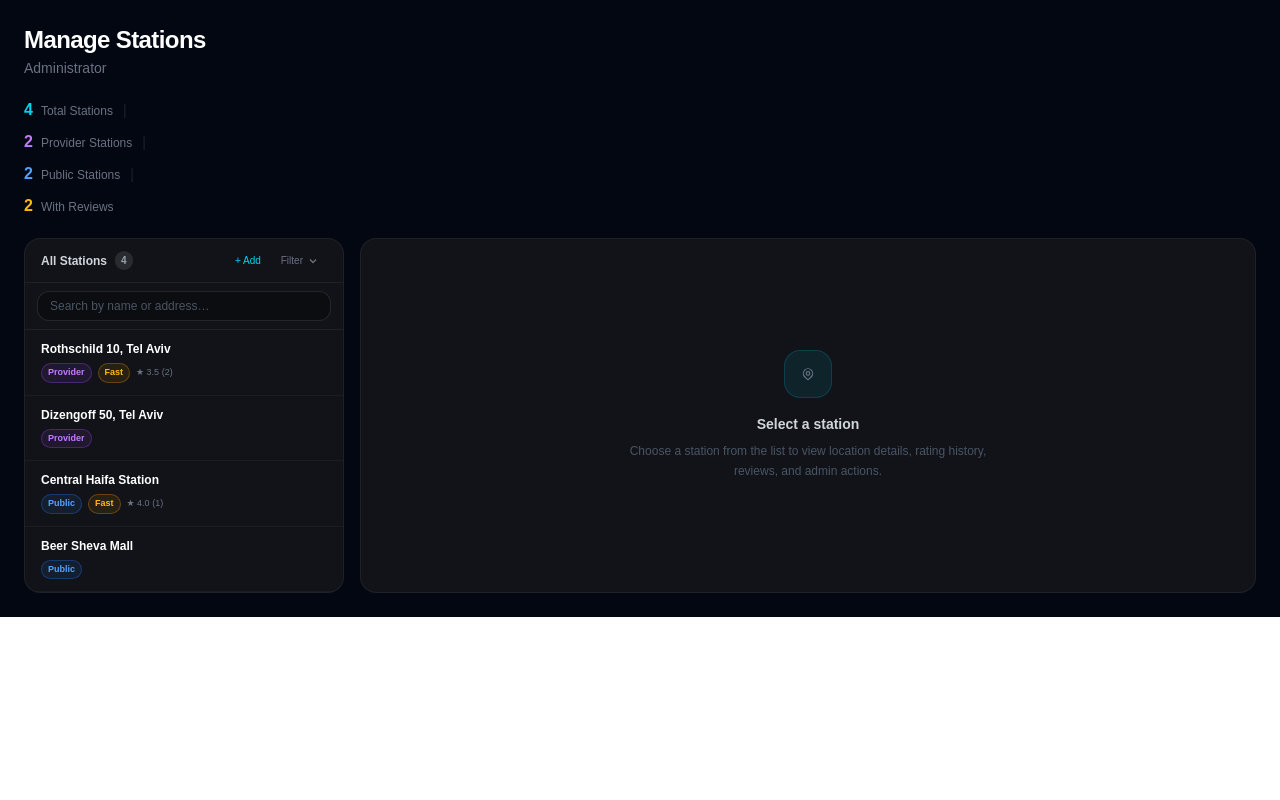
Test: source filter › restoring provider filter brings stations back
Click the button "Filter": (300, 260) [273,249,327,272]
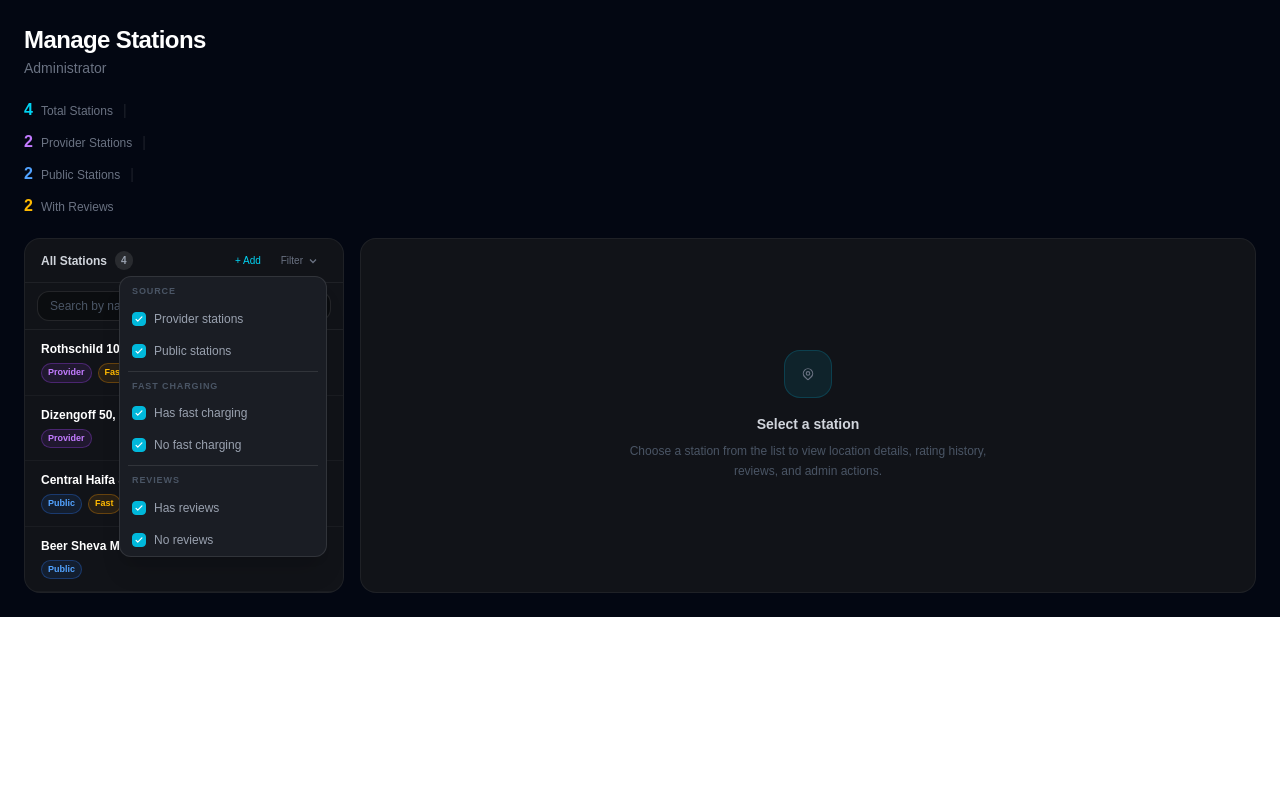
Click the button "Provider stations": (223, 318) [120,302,326,334]
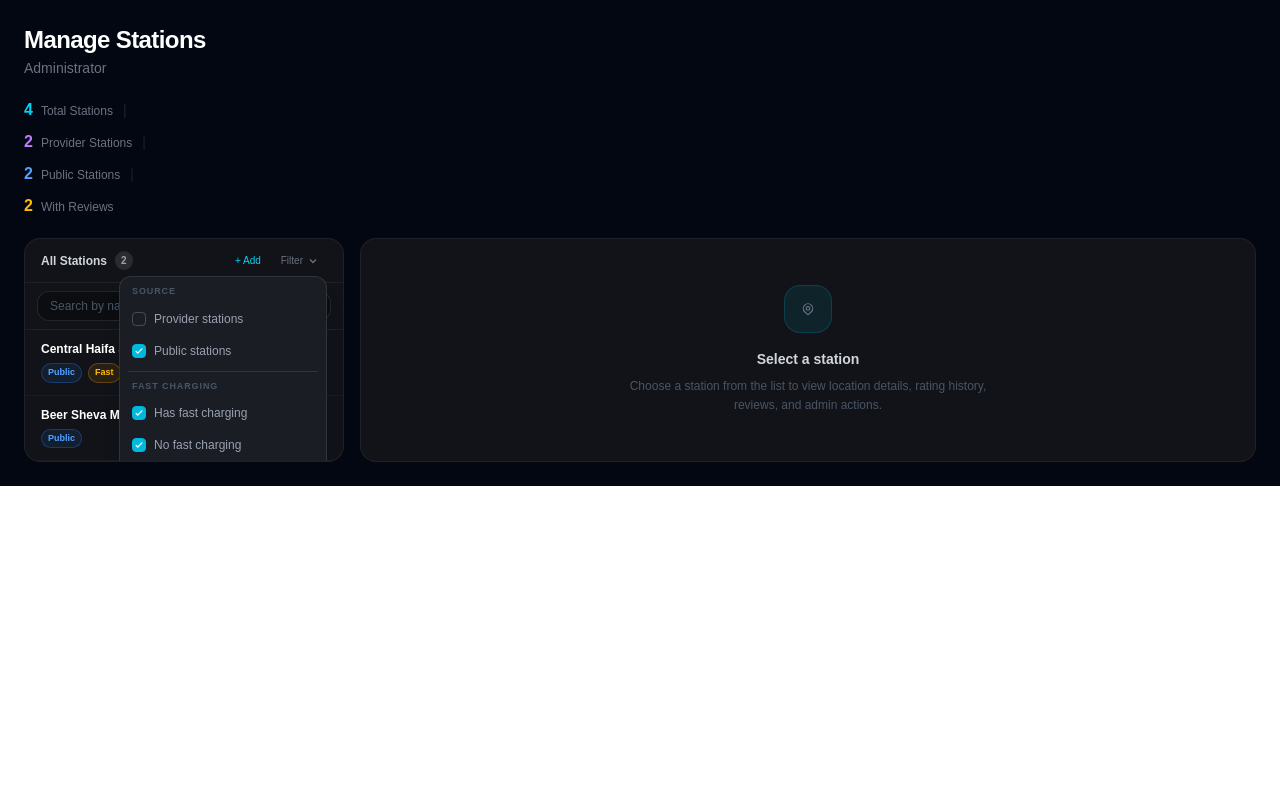
Expected: the button "Rothschild 10, Tel Aviv" is gone
Click the button "Provider stations": (223, 318) [120,302,326,334]
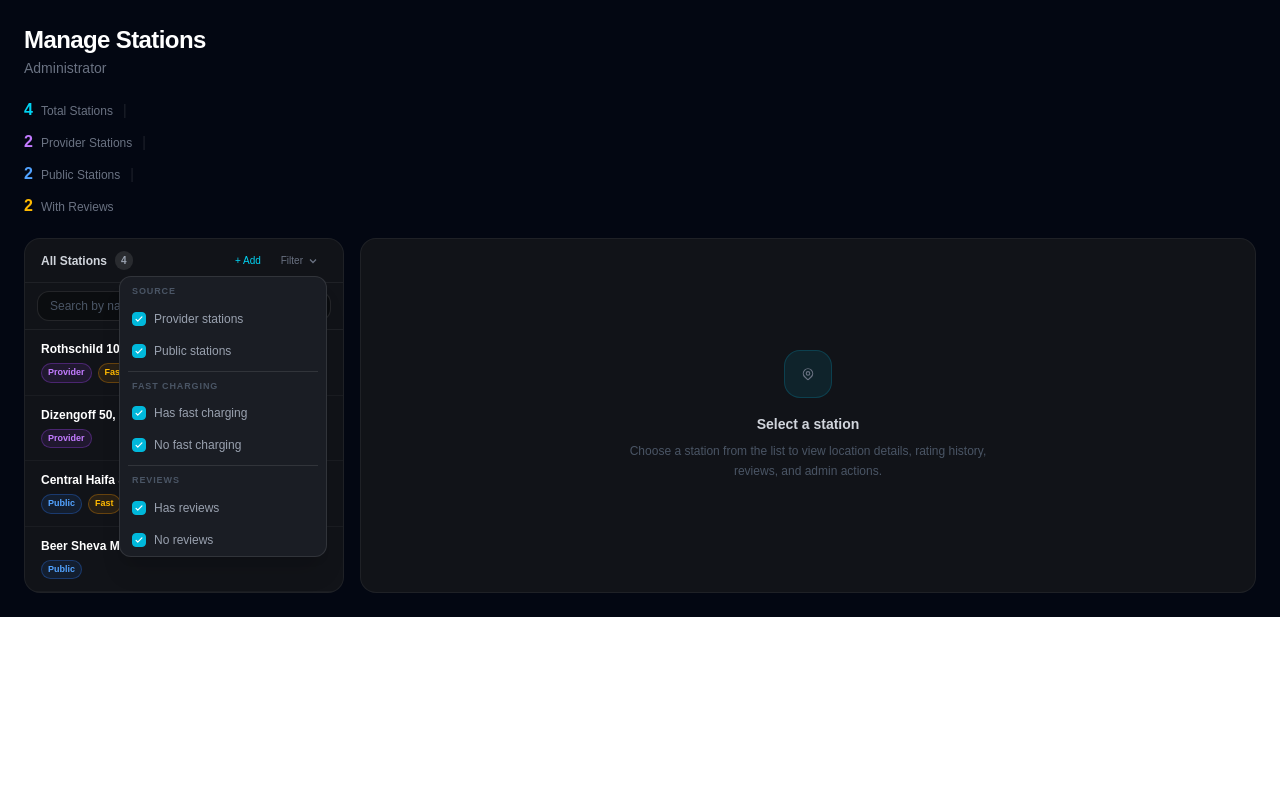
Expected: the text "Rothschild 10, Tel Aviv" is shown, [41,342,171,356]
